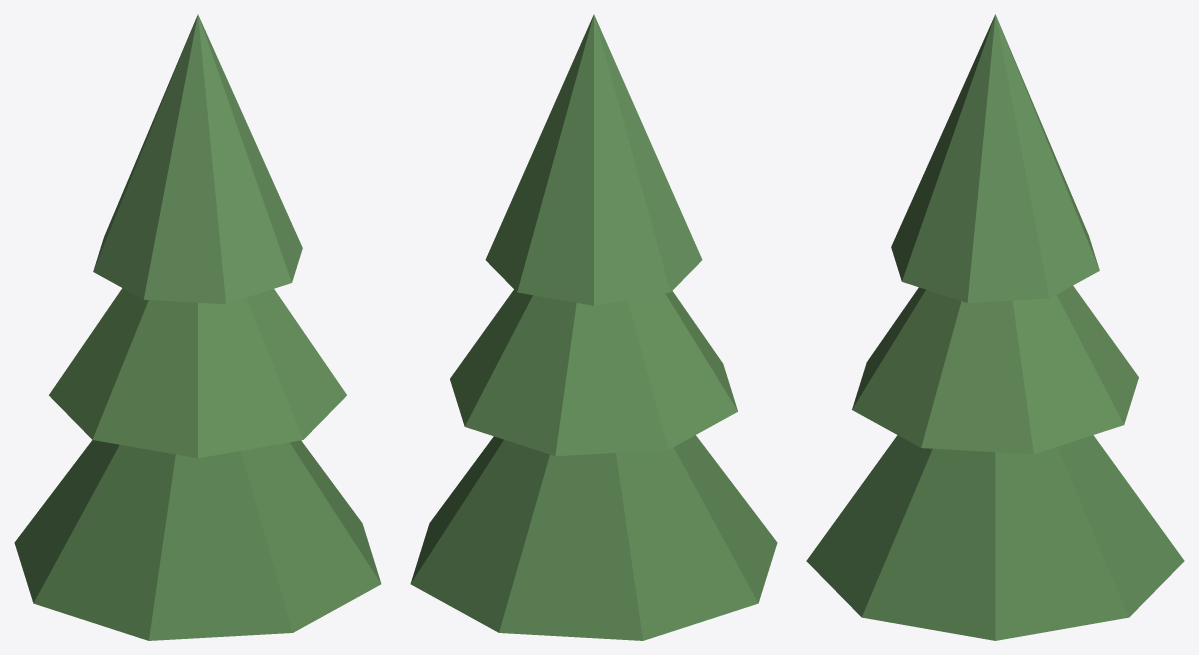
The model's file is tree_pine_lowpoly.glb.
3 views of the same model, side by side, from view 1: azimuth 30°, elevation 25°; view 2: azimuth 150°, elevation 25°; view 3: azimuth 270°, elevation 25° (orthographic).
Visible parts, largest first — view 1: TreePine; view 2: TreePine; view 3: TreePine.
Part boxes in pixels (x1,y1,x2,y2): TreePine: (14, 14, 381, 640); TreePine: (410, 14, 777, 640); TreePine: (806, 14, 1184, 640).
Bounding box in the file's own units: 0.84 × 1.48 × 0.84.
